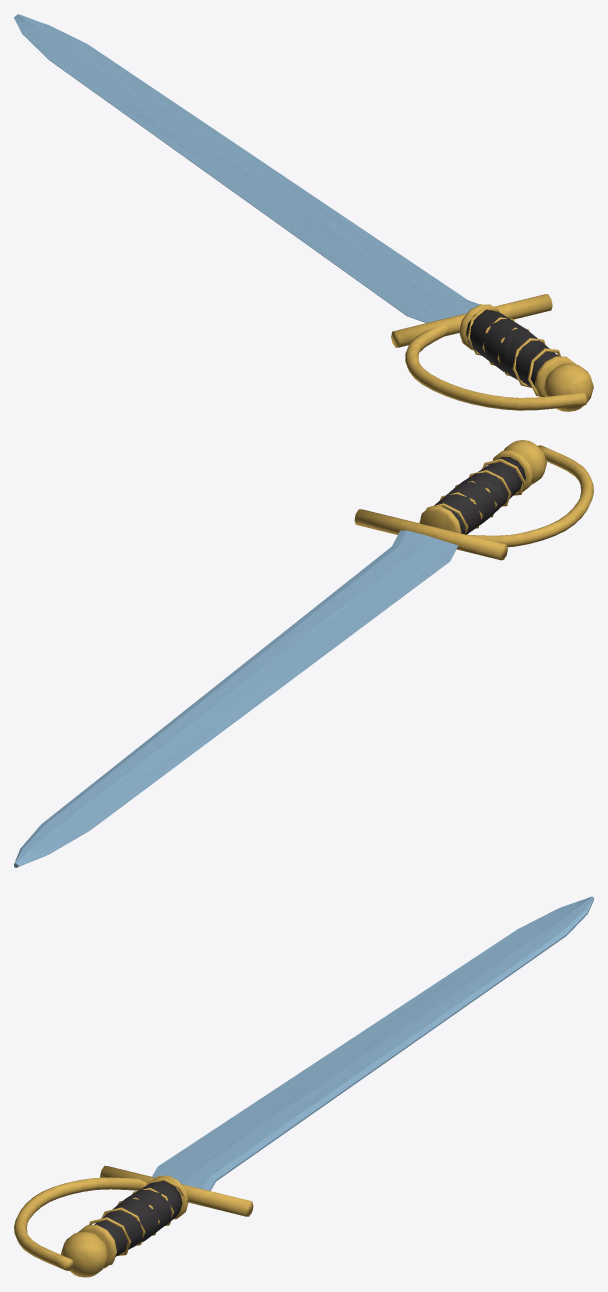
The model's file is item_brsword1.glb.
3 renders of one model, top to bottom at view 1: azimuth 30°, elevation 25°; view 2: azimuth 150°, elevation 25°; view 3: azimuth 330°, elevation 25°, orthographic. The views are drawn at different scales.
Parts seen in each view (by area): view 1: swords_brsword1; view 2: swords_brsword1; view 3: swords_brsword1.
Part boxes in pixels (box(x1,y1,x2,y2)): swords_brsword1: box(14, 14, 593, 411); swords_brsword1: box(14, 440, 593, 867); swords_brsword1: box(14, 896, 593, 1277).
Size of the model in its own units: 0.2542 by 0.0669 by 1.39.
1 material, 1 textured.
